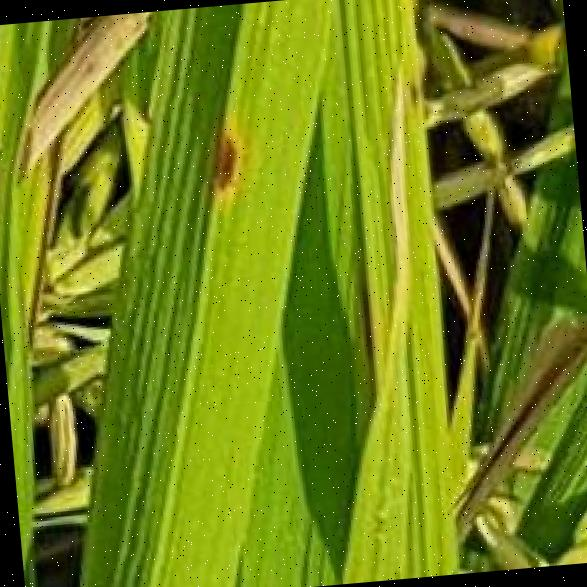Brown_Spot: (194, 106, 246, 200)
